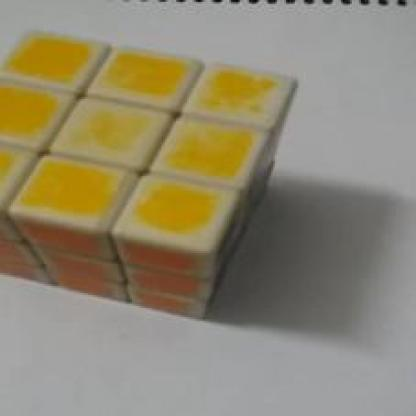cube: (0, 29, 303, 340)
